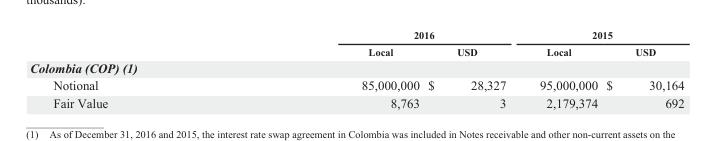table: (29, 28, 683, 110)
table column: (29, 28, 234, 110), (234, 28, 423, 110), (423, 28, 522, 110), (601, 28, 683, 110), (522, 28, 601, 110)
table column header: (29, 28, 683, 58)
table projected row header: (29, 58, 683, 76)
table row: (29, 58, 683, 76), (29, 76, 683, 93), (29, 93, 683, 110), (29, 28, 683, 43), (29, 43, 683, 58)
table spanning cell: (234, 28, 522, 43), (522, 28, 683, 43)
